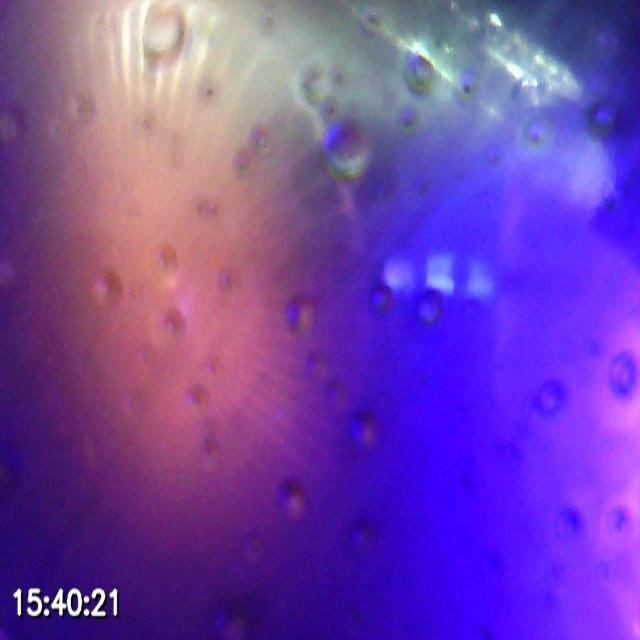white-dots: (383, 249, 497, 302)
